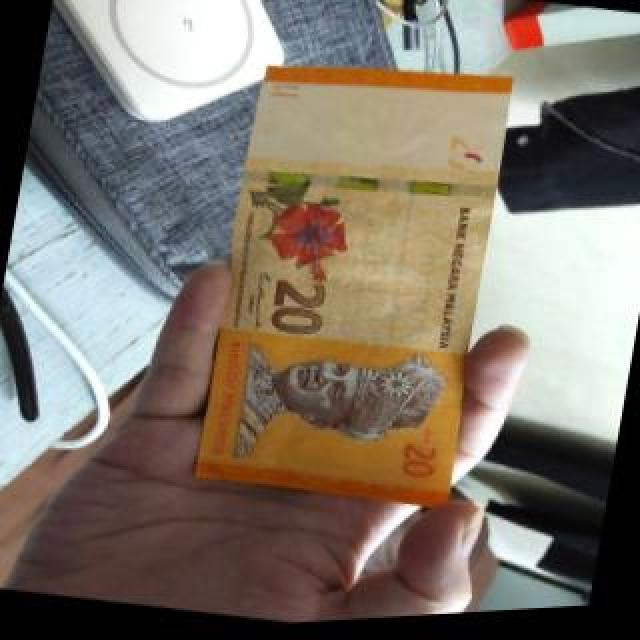20 Ringgit: (192, 38, 522, 525)
